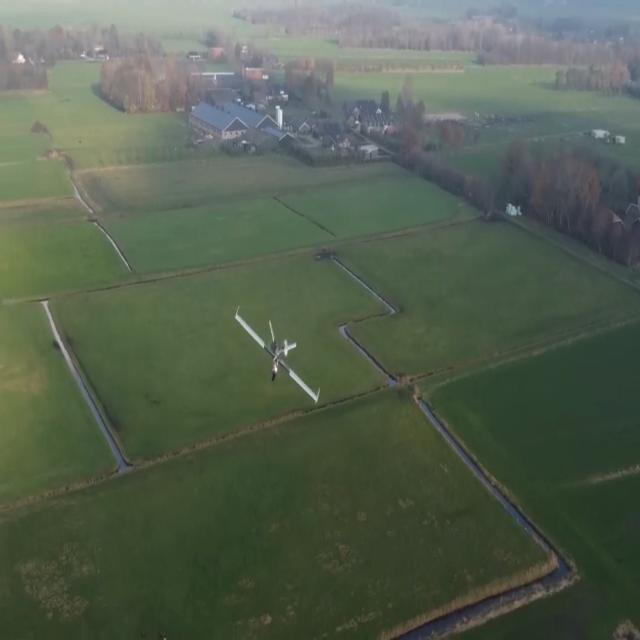iha: (265, 331, 289, 372)
